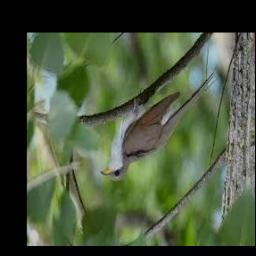Cuckoo: (100, 73, 217, 181)
